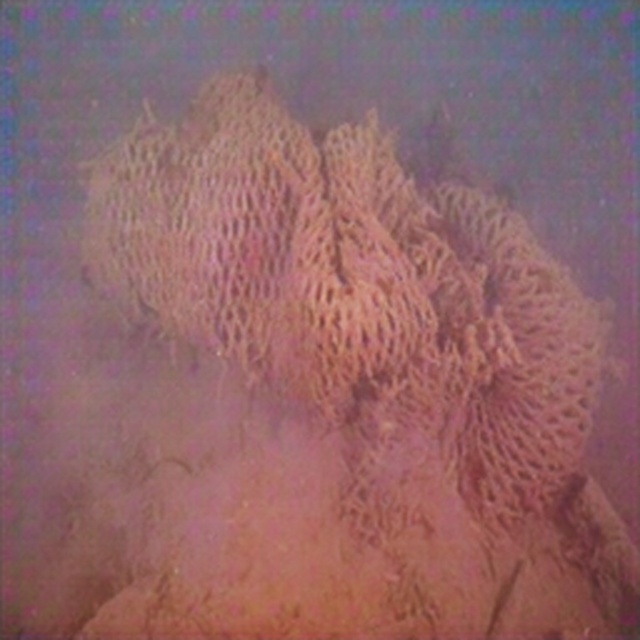mine: (78, 67, 627, 547)
